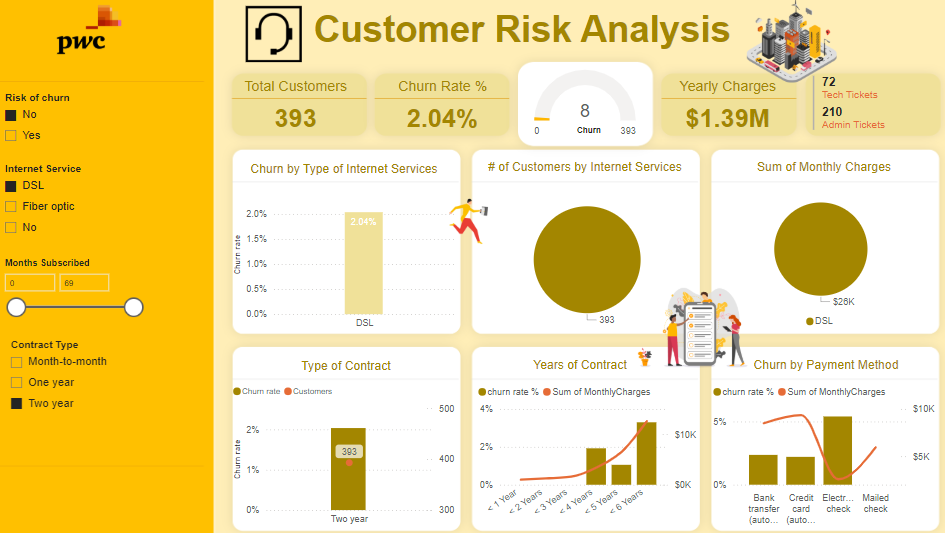

The dashboard page shown, as its layout file describes it:
{"tool":"powerbi","page":{"name":"Customer Risk Analysis","canvas":[1280,720],"ordinal":2},"visuals":[{"type":"textbox","box":[425.5,13.6,569.3,70.2],"z":1000},{"type":"image","box":[75.1,8.5,121.9,75.1],"z":2000},{"type":"image","box":[331.6,9.1,93.9,83.7],"z":3000},{"type":"card","fields":{"Values":["CountNonNull(churn.customerID)"]},"box":[319.2,134.7,175.4,52.1],"z":4000},{"type":"card","fields":{"Values":["churn.churn rate %"]},"box":[512.7,134.7,175.4,52.1],"z":5000},{"type":"gauge","fields":{"MaxValue":["CountNonNull(churn.customerID)"],"Y":["churn.Count of Churn for Yes"]},"box":[698.3,92.8,178.8,100.7],"z":6000},{"type":"textbox","box":[763.9,164.1,57.7,29.4],"z":7000},{"type":"card","fields":{"Values":["Sum(churn.TotalCharges)"]},"box":[887.3,134.7,175.4,52.1],"z":8000},{"type":"multiRowCard","fields":{"Values":["Sum(churn.numTechTickets)","Sum(churn.numAdminTickets)"]},"box":[1080.8,100.7,179.9,86],"z":9000},{"type":"image","box":[994.8,0,127.9,121.1],"z":10000},{"type":"clusteredColumnChart","fields":{"Category":["churn.InternetService"],"Y":["churn.churn rate %"]},"box":[319.2,247.9,302.2,199.2],"z":11000},{"type":"pieChart","fields":{"Category":["churn.InternetService"],"Y":["CountNonNull(churn.customerID)"]},"box":[640.6,247.9,297.6,199.2],"z":12000},{"type":"pieChart","fields":{"Y":["Sum(churn.MonthlyCharges)"],"Category":["churn.InternetService"]},"box":[949.5,247.9,294.3,199.2],"z":13000},{"type":"lineClusteredColumnComboChart","fields":{"Category":["churn.Contract"],"Y":["churn.churn rate %"],"Y2":["CountNonNull(churn.customerID)"]},"box":[319.2,502.5,302.2,202.6],"z":14000},{"type":"lineClusteredColumnComboChart","fields":{"Y":["churn.churn rate %"],"Y2":["Sum(churn.MonthlyCharges)"],"Category":["churn.Loyalty"]},"box":[640.6,502.5,297.6,202.6],"z":15000},{"type":"lineClusteredColumnComboChart","fields":{"Y":["churn.churn rate %"],"Y2":["Sum(churn.MonthlyCharges)"],"Category":["churn.PaymentMethod"]},"box":[949.5,502.5,302.2,202.6],"z":16000},{"type":"image","box":[842,373.5,191.3,129],"z":17000},{"type":"image","box":[601,230.9,65.6,129],"z":18000},{"type":"slicer","fields":{"Values":["churn.Churn"]},"box":[11.3,122.2,170.9,83.7],"z":19000},{"type":"slicer","fields":{"Values":["churn.InternetService"]},"box":[11.3,215,200.3,116.6],"z":20000},{"type":"slicer","title":"Number of months subscribed","fields":{"Values":["churn.tenure"]},"box":[11.3,340.7,210.5,106.4],"z":21000},{"type":"slicer","fields":{"Values":["churn.Contract"]},"box":[19.2,447,177.7,112],"z":22000},{"type":"textbox","box":[319.2,104.1,175.4,36.2],"z":23000},{"type":"textbox","box":[512.7,104.1,175.4,36.2],"z":24000},{"type":"textbox","box":[887.3,104.1,175.4,36.2],"z":25000},{"type":"textbox","box":[319.2,215,302.2,36.2],"z":26000},{"type":"textbox","box":[636,212.8,302.2,36.2],"z":27000},{"type":"textbox","box":[949.5,212.8,302.2,36.2],"z":28000},{"type":"textbox","box":[322.5,474.4,302.2,36.2],"z":29000},{"type":"textbox","box":[629.2,473.1,302.2,36.2],"z":30000},{"type":"textbox","box":[952.9,473.2,302.2,36.2],"z":31000}]}

Visuals, with their boxes in screenshot pixels (x1, y1, x2, y2), scaled from the page's 1280x720 canvas onto the 945x533 screenshot:
textbox: 314,10,734,62
image: 55,6,145,62
image: 245,7,314,69
card - CountNonNull(churn.customerID): 236,100,365,138
card - churn.churn rate %: 379,100,508,138
gauge - CountNonNull(churn.customerID) x churn.Count of Churn for Yes: 516,69,648,143
textbox: 564,121,607,143
card - Sum(churn.TotalCharges): 655,100,785,138
multiRowCard - Sum(churn.numTechTickets) x Sum(churn.numAdminTickets): 798,75,931,138
image: 734,0,829,90
clusteredColumnChart - churn.InternetService x churn.churn rate %: 236,184,459,331
pieChart - churn.InternetService x CountNonNull(churn.customerID): 473,184,693,331
pieChart - Sum(churn.MonthlyCharges) x churn.InternetService: 701,184,918,331
lineClusteredColumnComboChart - churn.Contract x churn.churn rate %: 236,372,459,522
lineClusteredColumnComboChart - churn.churn rate % x Sum(churn.MonthlyCharges): 473,372,693,522
lineClusteredColumnComboChart - churn.churn rate % x Sum(churn.MonthlyCharges): 701,372,924,522
image: 622,276,763,372
image: 444,171,492,266
slicer - churn.Churn: 8,90,135,152
slicer - churn.InternetService: 8,159,156,245
"Number of months subscribed" slicer: 8,252,164,331
slicer - churn.Contract: 14,331,145,414
textbox: 236,77,365,104
textbox: 379,77,508,104
textbox: 655,77,785,104
textbox: 236,159,459,186
textbox: 470,158,693,184
textbox: 701,158,924,184
textbox: 238,351,461,378
textbox: 465,350,688,377
textbox: 704,350,927,377
